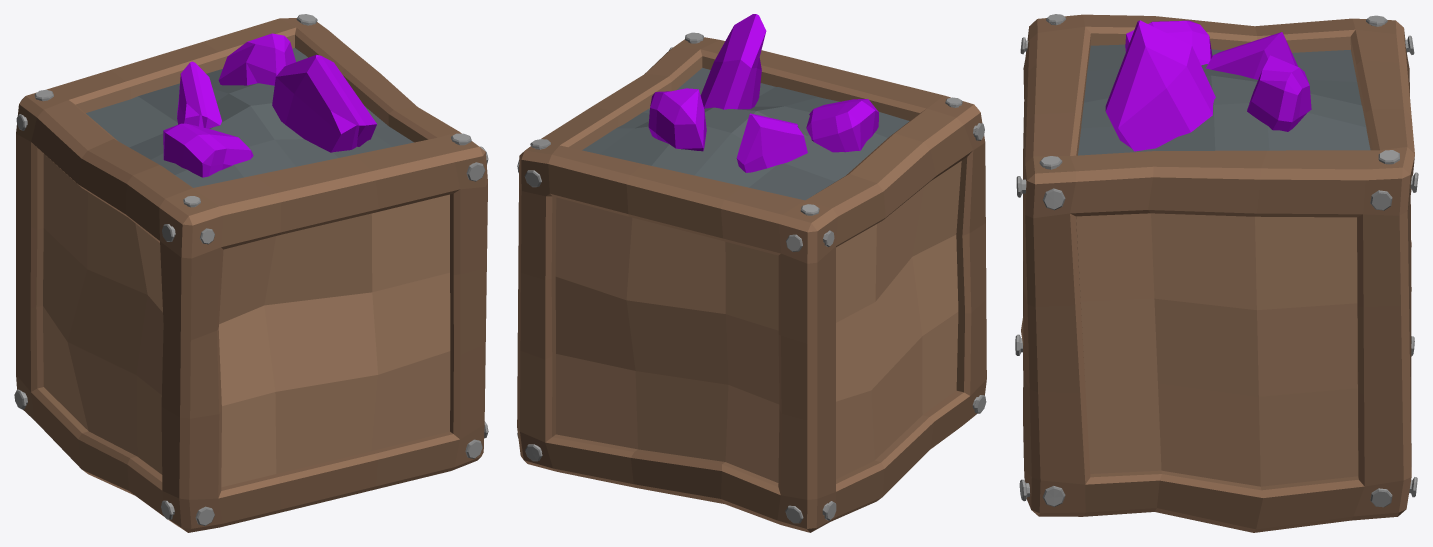
The model's file is Crate_Small_Purple.fbx.
3 renders of one model, left to right at view 1: azimuth 30°, elevation 25°; view 2: azimuth 150°, elevation 25°; view 3: azimuth 270°, elevation 25°, orthographic. The views are drawn at different scales.
Parts seen in each view (by area): view 1: Crate_Small_Purple, Purple; view 2: Crate_Small_Purple, Purple; view 3: Crate_Small_Purple, Purple.
Part boxes in pixels (<box>): Crate_Small_Purple: <box>14,14,488,532</box>; Purple: <box>163,33,376,177</box>; Crate_Small_Purple: <box>517,32,986,532</box>; Purple: <box>648,14,878,172</box>; Crate_Small_Purple: <box>1015,14,1418,532</box>; Purple: <box>1105,20,1311,151</box>.
Bounding box in the file's own units: 71.1 × 88 × 71.11.
